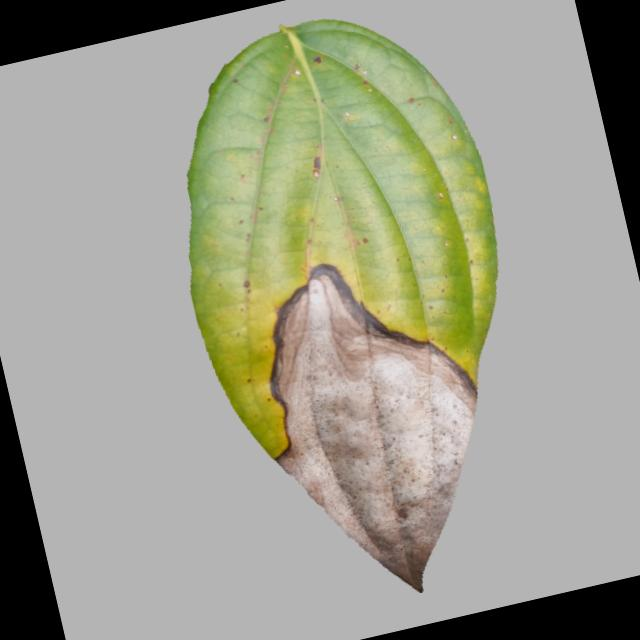leaf-blight: (120, 0, 581, 636)
